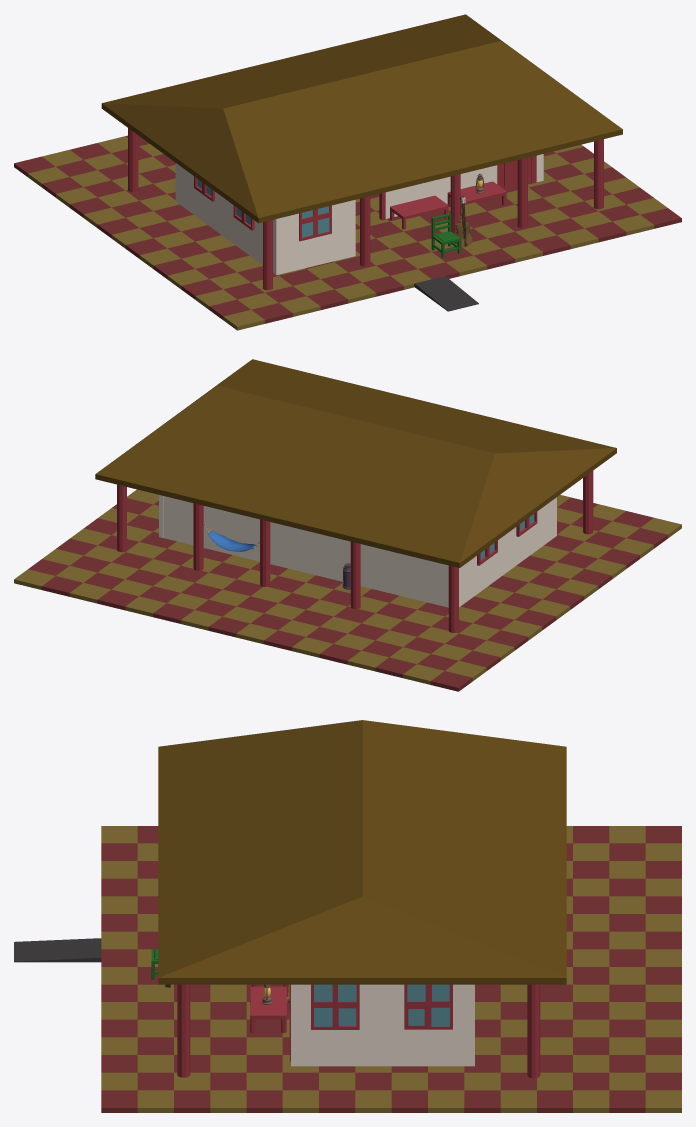
Rendered from Casa Alma 15.fbx.
The picture shows the model from 3 angles, top to bottom: view 1: azimuth 30°, elevation 25°; view 2: azimuth 150°, elevation 25°; view 3: azimuth 270°, elevation 25°; orthographic projection. The views are drawn at different scales.
Parts seen in each view (by area): view 1: ciling, Floor, house, ramp, bench1, Chair, Door 2, column 7, column 9, bench2, column 10, column 6 (+4 smaller); view 2: ciling, Floor, house, column 4, column 3, column 2, column 1, column 5, column 10; view 3: ciling, Floor, house, ramp, Plane, Plane.001, column 5, column 6, bench2, second left window2, left window.
Part boxes in pixels (x1,y1,x2,y2): ciling: (101,14,622,223); Floor: (14,135,681,330); house: (175,154,543,275); ramp: (414,276,478,311); bench1: (390,195,448,229); Chair: (431,213,460,257); Door 2: (497,155,536,189); column 7: (517,157,527,228); column 9: (360,196,370,266); bench2: (447,181,506,215); column 10: (263,220,272,290); column 6: (594,139,603,209); ciling: (95,359,616,567); Floor: (14,489,681,691); house: (159,495,556,607); column 4: (193,503,203,570); column 3: (260,519,270,586); column 2: (350,541,360,609); column 1: (448,565,458,632); column 5: (117,484,126,552); column 10: (583,471,593,534); ciling: (158,720,566,984); Floor: (101,826,681,1112); house: (291,984,474,1066); ramp: (14,938,101,962); Plane: (314,984,356,1026); Plane.001: (407,984,449,1026); column 5: (527,984,540,1078); column 6: (177,984,190,1077); bench2: (250,986,286,1032); second left window2: (404,984,452,1029); left window: (311,984,359,1029).
Bounding box in the file's own units: 1187 × 325 × 1188.
